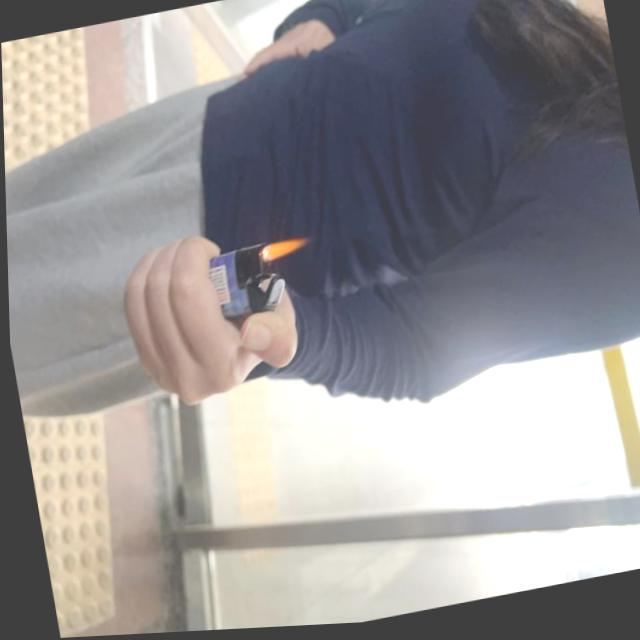Fire: (257, 236, 308, 265)
